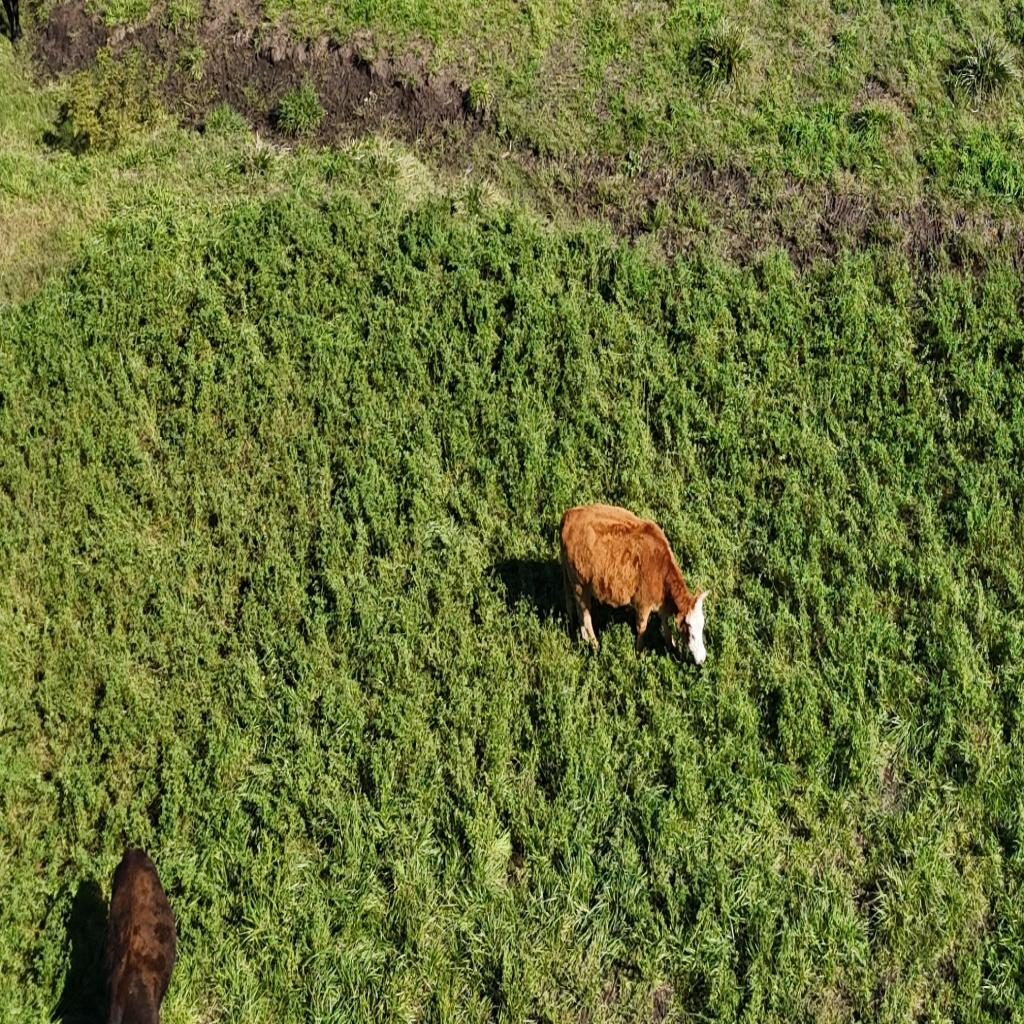cow: (558, 500, 710, 666), (98, 844, 179, 1024)
